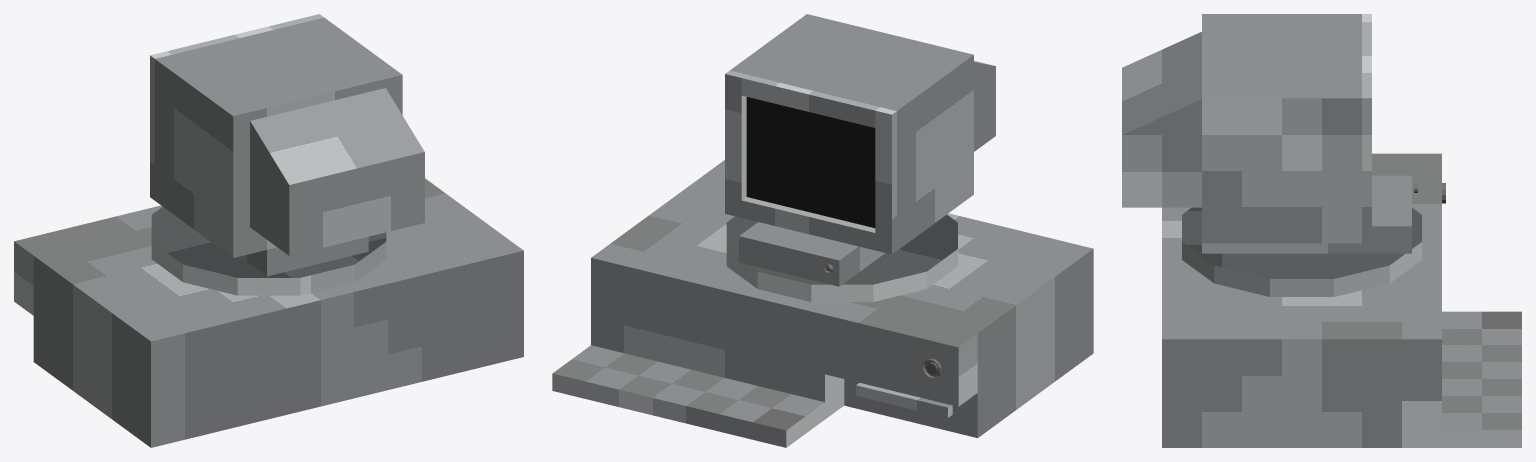
Rendered from alchemyPC.gltf.
The picture shows the model from 3 angles, left to right: view 1: azimuth 30°, elevation 25°; view 2: azimuth 150°, elevation 25°; view 3: azimuth 270°, elevation 25°; orthographic projection. The views are drawn at different scales.
Parts seen in each view (by area): view 1: Base, cube (×5), cuboid, cylinder; view 2: cube (×9), Base, Keyboard, cylinder, cuboid; view 3: cube (×6), Base, cuboid, Keyboard, cylinder.
Part boxes in pixels (left/top/right/bottom): Base: left=33, top=178, right=523, bottom=447; cube (×5): left=14, top=17, right=402, bottom=315; cuboid: left=250, top=88, right=424, bottom=255; cylinder: left=151, top=207, right=386, bottom=295; cube (×9): left=591, top=14, right=977, bottom=419; Base: left=611, top=160, right=1093, bottom=438; Keyboard: left=552, top=345, right=824, bottom=447; cylinder: left=726, top=214, right=957, bottom=301; cuboid: left=974, top=61, right=995, bottom=151; cube (×6): left=1202, top=14, right=1441, bottom=447; Base: left=1162, top=153, right=1401, bottom=447; cuboid: left=1122, top=31, right=1201, bottom=207; Keyboard: left=1442, top=311, right=1521, bottom=447; cylinder: left=1182, top=207, right=1421, bottom=296.
Size of the model in its own units: 0.6875 by 0.5156 by 0.625.
1 material, 1 textured.
